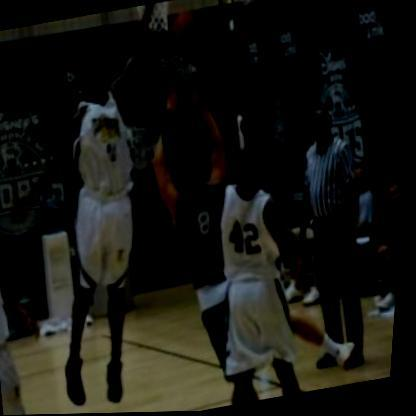basketball: (159, 4, 210, 58)
